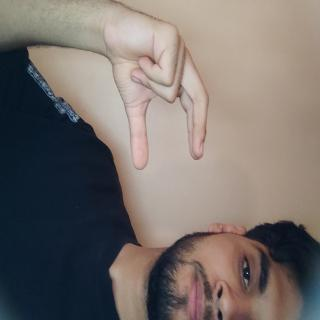DHELL: (3, 133, 138, 313)
